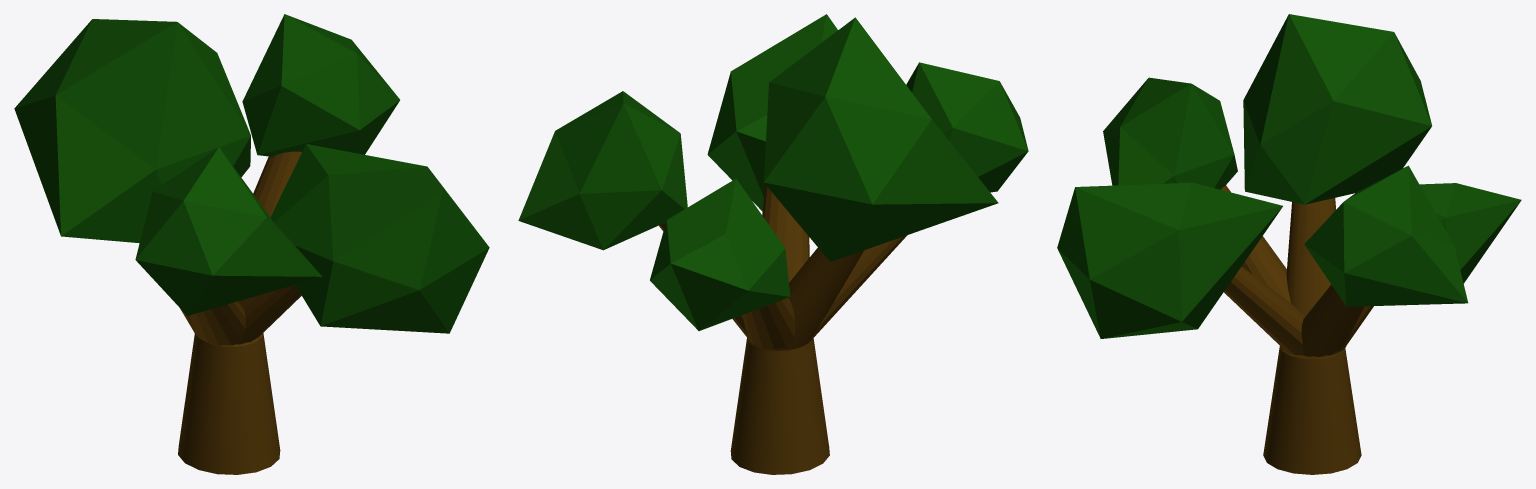
Rendered from Tree_3.fbx.
3 views of the same model, side by side, from view 1: azimuth 30°, elevation 25°; view 2: azimuth 150°, elevation 25°; view 3: azimuth 270°, elevation 25° (orthographic). The views are drawn at different scales.
Parts seen in each view (by area): view 1: pasted__polySurface21; view 2: pasted__polySurface21; view 3: pasted__polySurface21.
Boxes of the visible parts, box(x1,y1,x2,y2) form: pasted__polySurface21: box(14, 14, 489, 474); pasted__polySurface21: box(518, 14, 1028, 474); pasted__polySurface21: box(1057, 14, 1521, 474).
Bounding box in the file's own units: 617 × 697 × 711.
